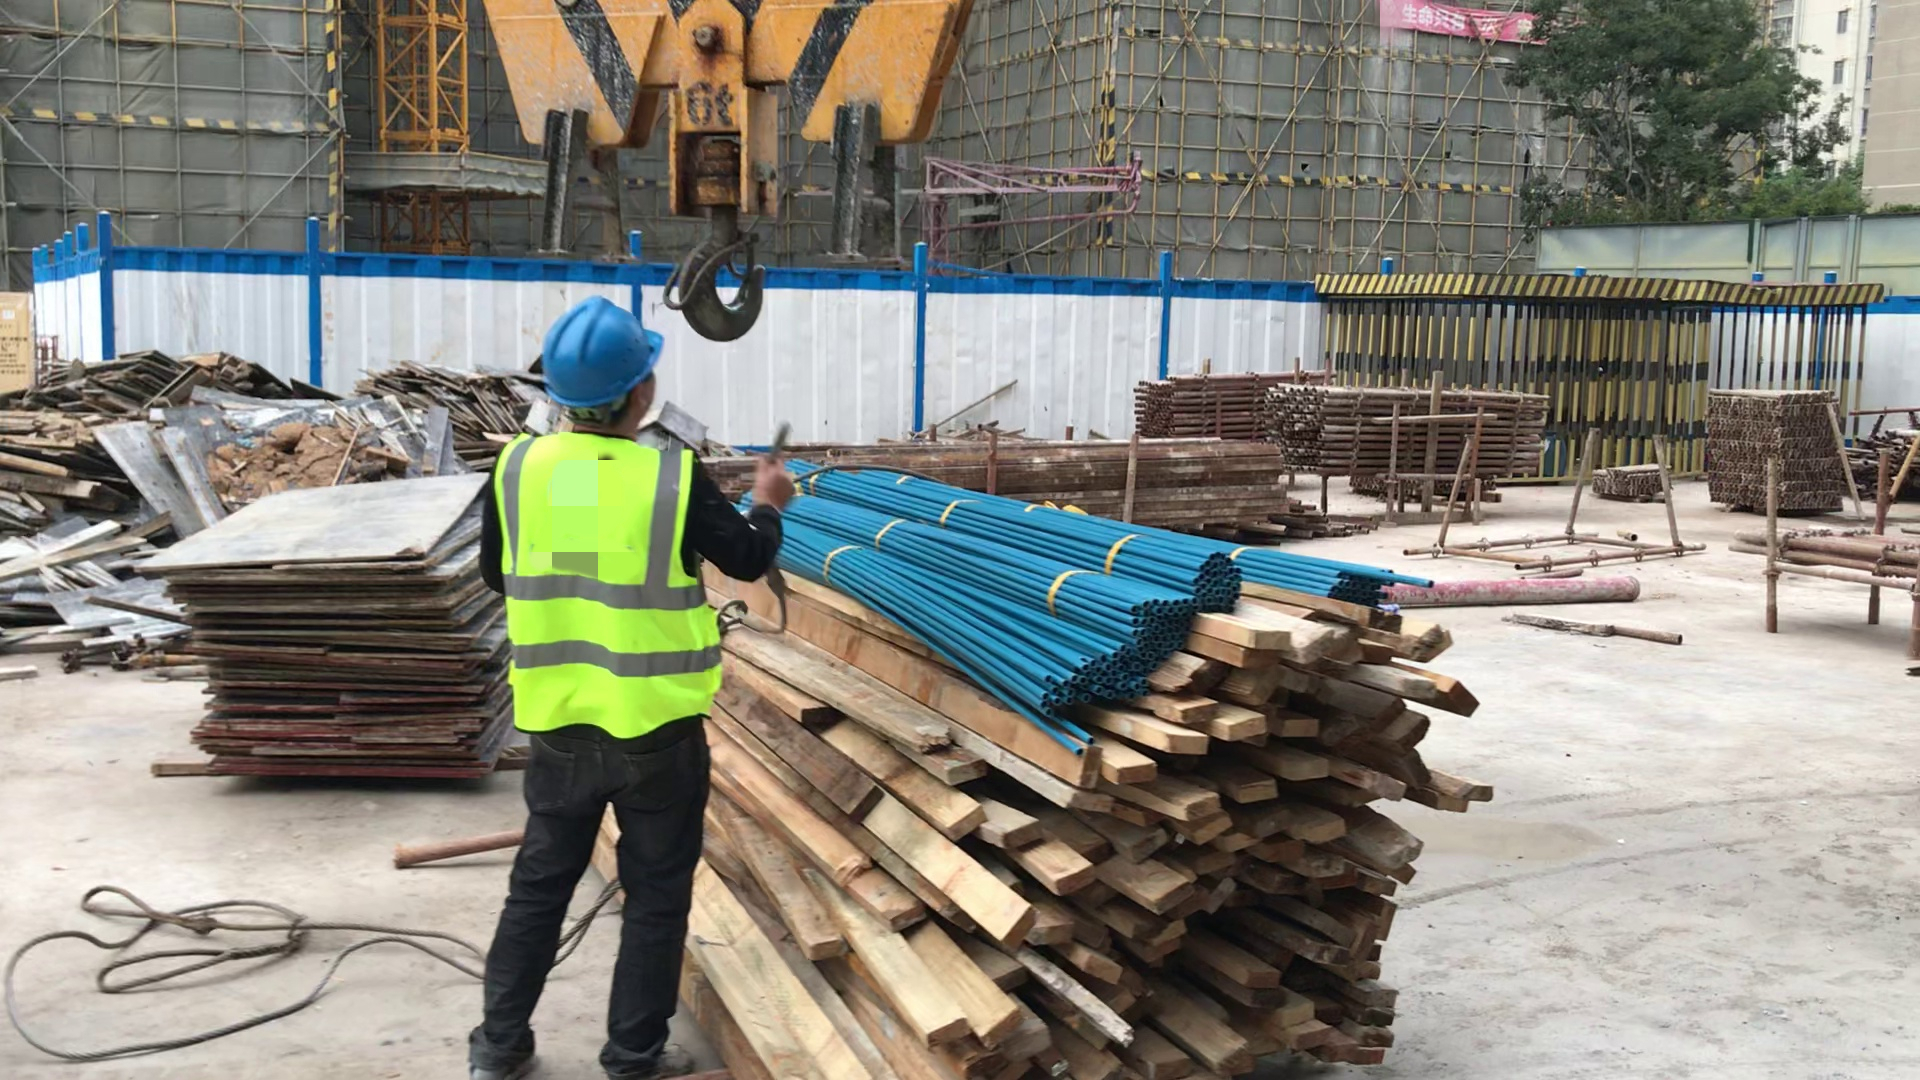board: (4, 292, 729, 735), (140, 477, 529, 799)
helmet: (529, 287, 688, 418)
hook: (414, 1, 1058, 369)
person: (450, 281, 789, 1080)
scaffold: (1264, 388, 1598, 482), (1114, 351, 1350, 447)
slogan: (1379, 1, 1553, 57)
vest: (489, 423, 733, 742)
wood: (544, 431, 1521, 1080)
